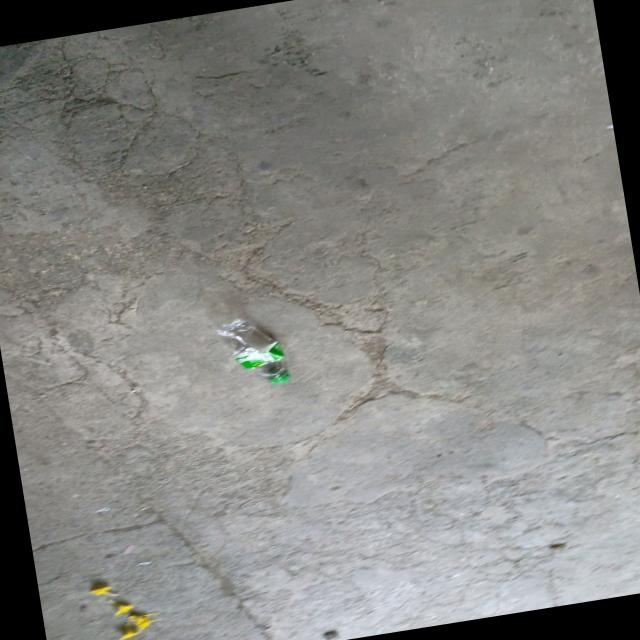Bottle: (218, 319, 289, 383)
